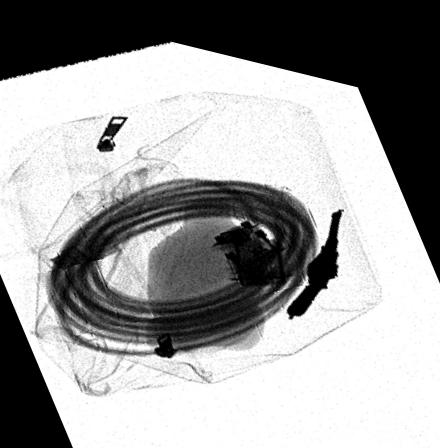Gun: (283, 192, 348, 304)
